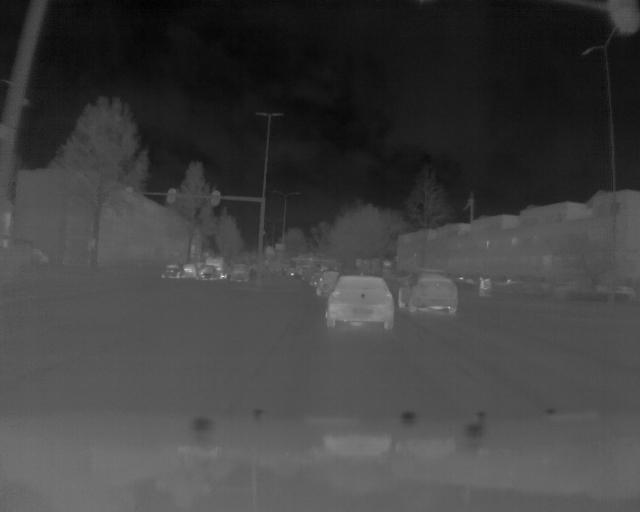car: (323, 273, 395, 334), (400, 272, 461, 321)
